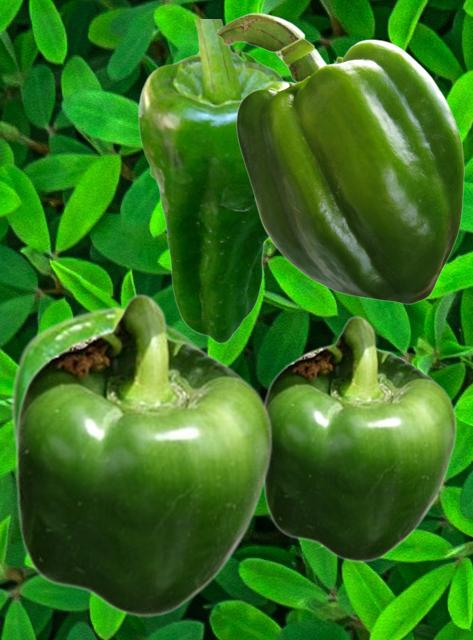bell_pepper: (14, 293, 272, 617), (215, 12, 463, 303), (263, 315, 456, 562), (137, 19, 283, 343), (9, 305, 208, 453)
